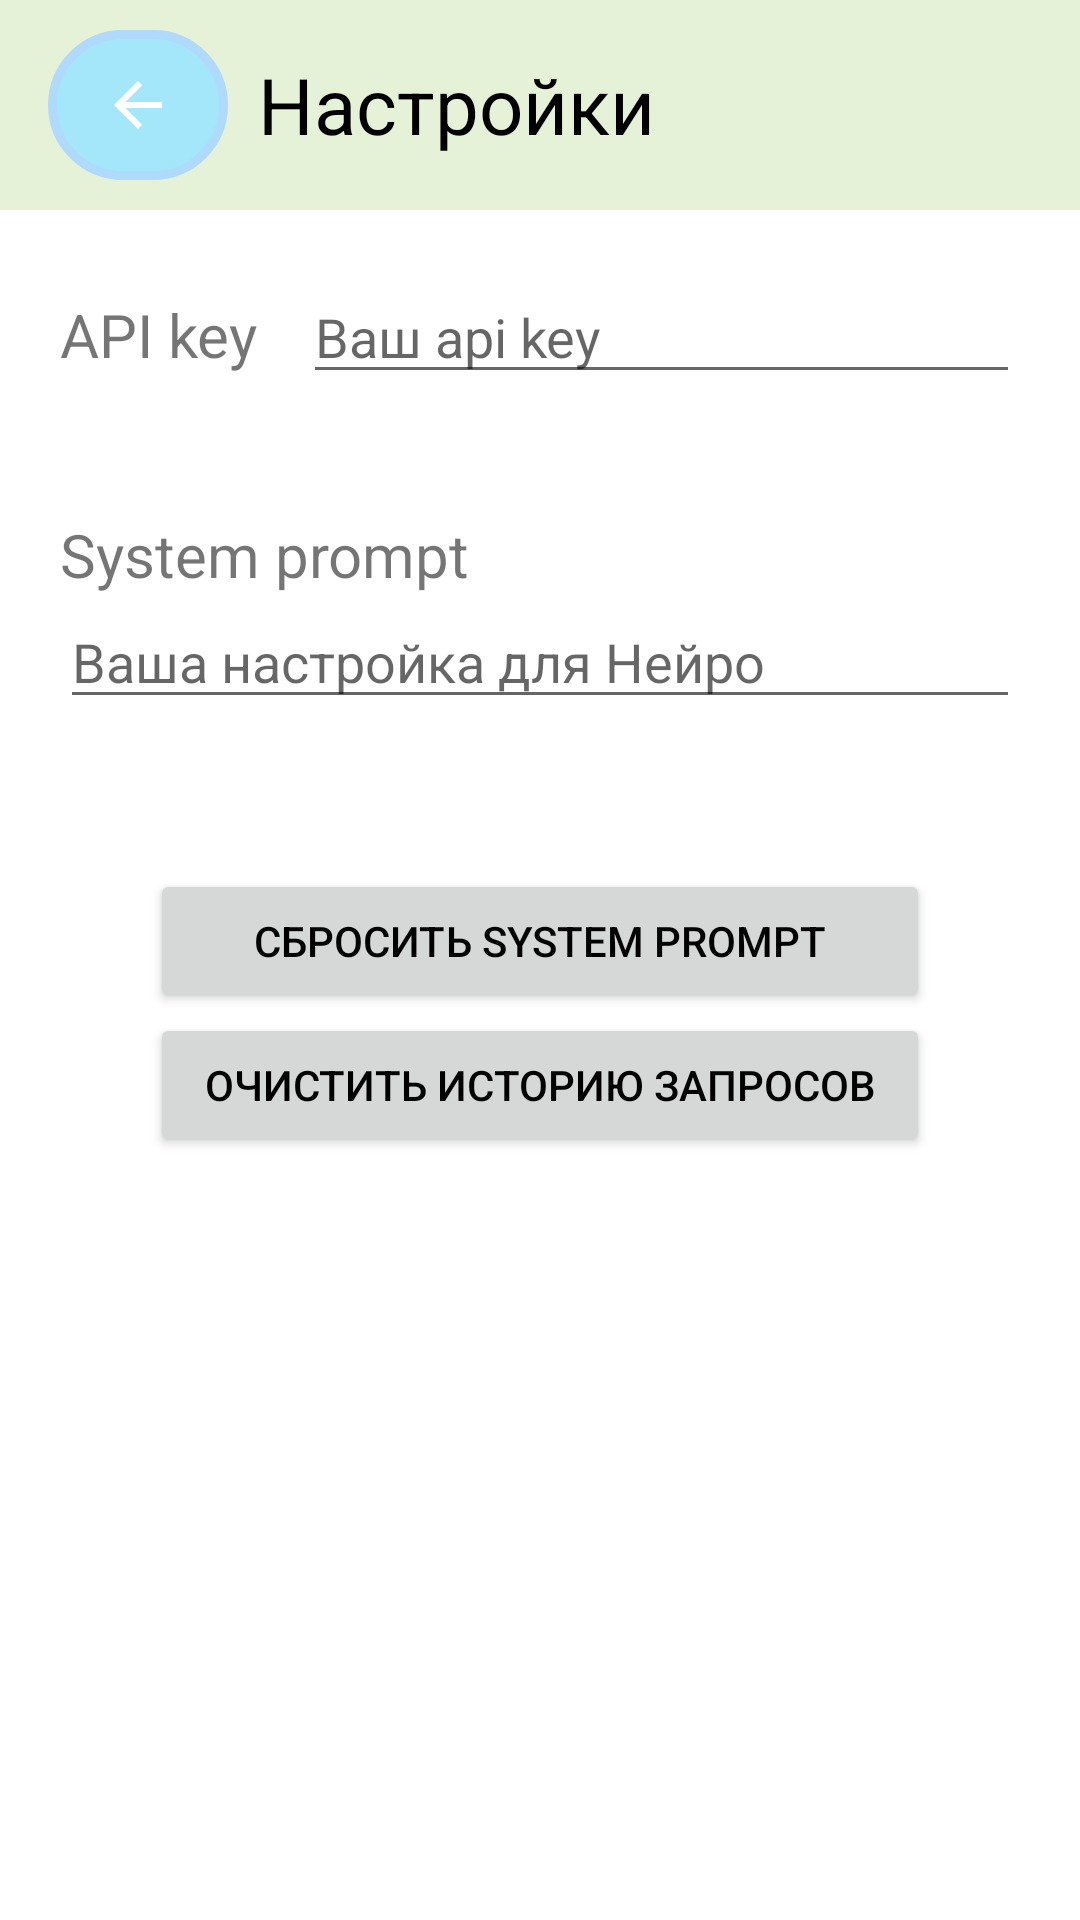

Where icons sit on this 1080w x 1920h app screen, as box(x1, y1, x2, y2):
Return: box(48, 30, 228, 180)
